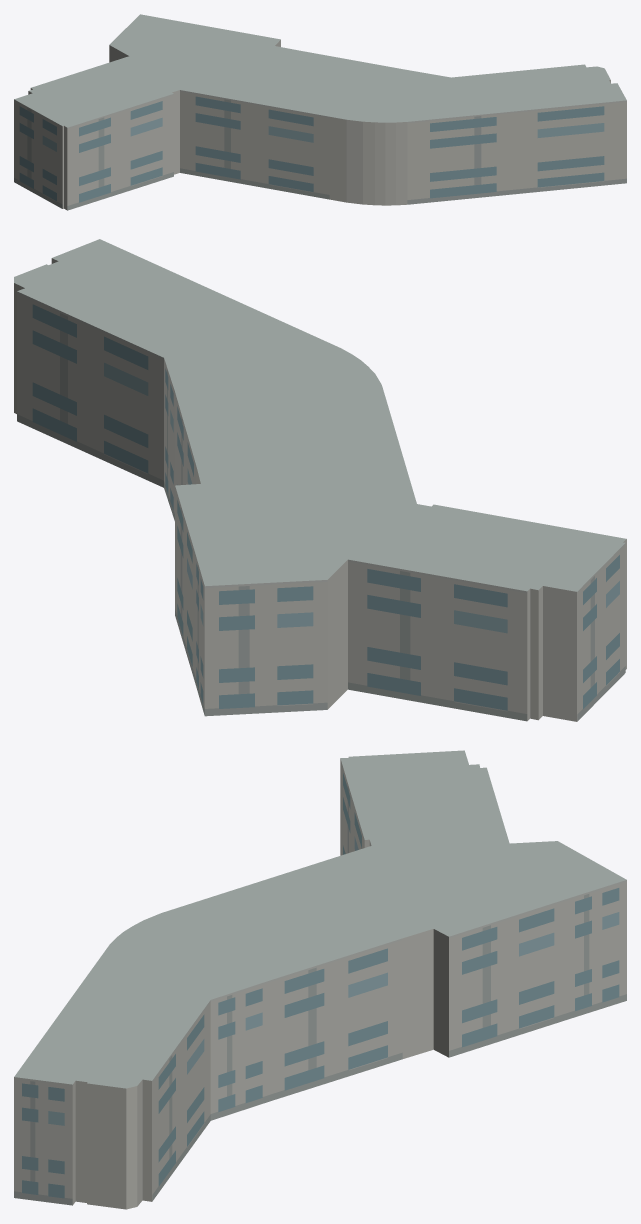
Rendered from survey-upis-32853207.glb.
3 renders of one model, top to bottom at view 1: azimuth 30°, elevation 25°; view 2: azimuth 150°, elevation 25°; view 3: azimuth 270°, elevation 25°, orthographic. The views are drawn at different scales.
Visible parts, largest first — view 1: survey-upis-32853207.tmp; view 2: survey-upis-32853207.tmp; view 3: survey-upis-32853207.tmp.
Part boxes in pixels (box(x1,y1,x2,y2)): survey-upis-32853207.tmp: box(14, 14, 626, 210); survey-upis-32853207.tmp: box(14, 239, 626, 721); survey-upis-32853207.tmp: box(14, 750, 626, 1209).
Size of the model in its own units: 91.43 by 15.25 by 70.04.
